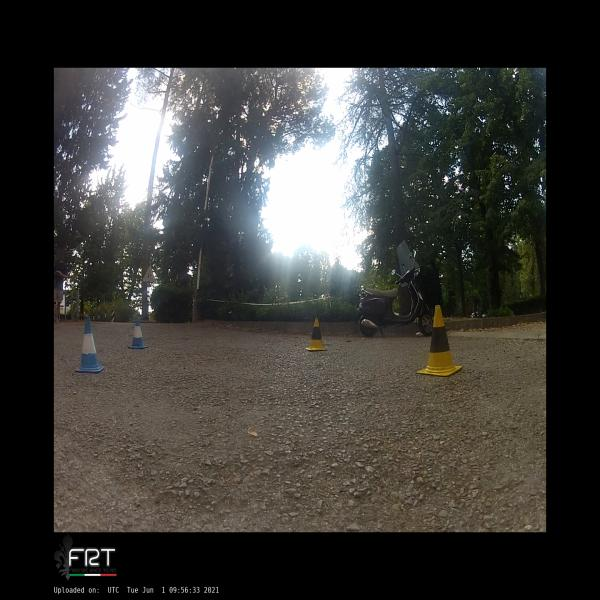blue_cone: (75, 316, 105, 372), (128, 318, 148, 349)
yellow_cone: (416, 305, 463, 376), (305, 317, 327, 351)
